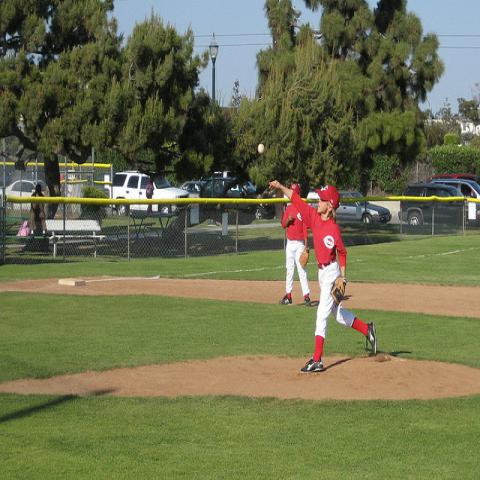car: (109, 171, 190, 216), (198, 178, 276, 221), (398, 184, 465, 226), (336, 190, 392, 223), (429, 178, 479, 200), (426, 173, 479, 187), (6, 179, 46, 197), (178, 181, 204, 197)
